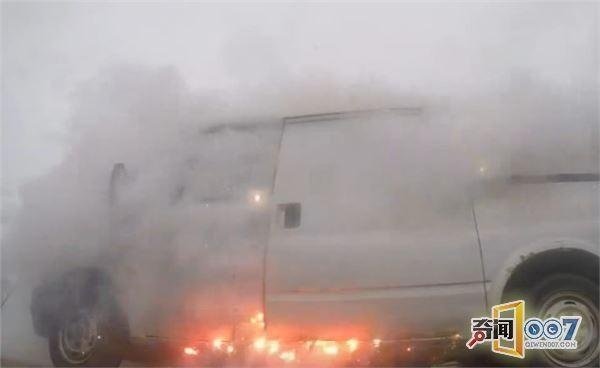fire: (187, 311, 370, 360)
